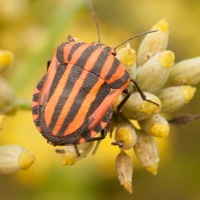insect: (32, 36, 133, 155)
